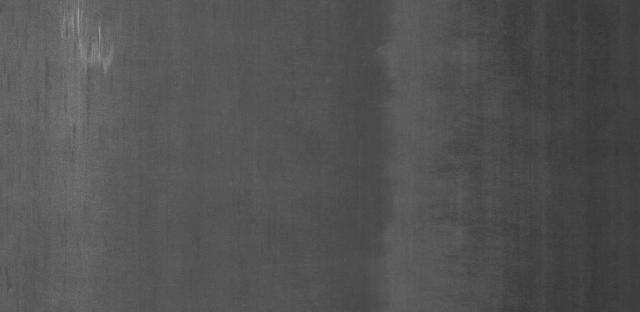silk_spot: (47, 7, 126, 88)
